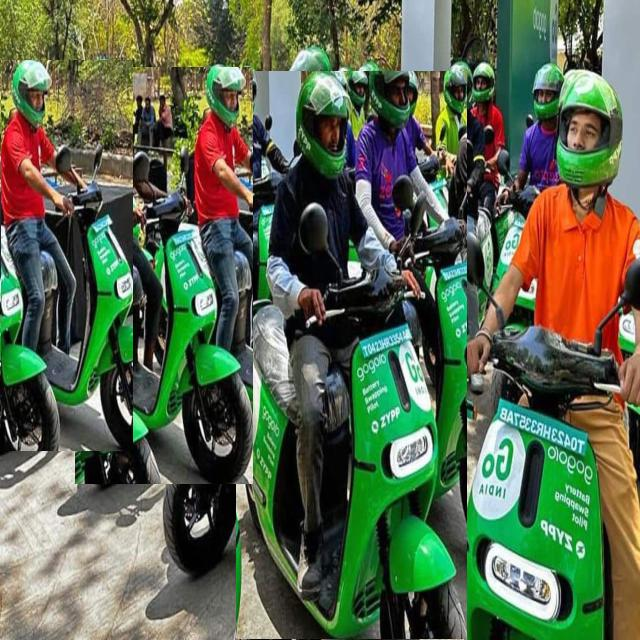motorcycle: (236, 71, 466, 640), (461, 71, 640, 638), (164, 47, 346, 573), (75, 67, 252, 484), (1, 60, 132, 451)
